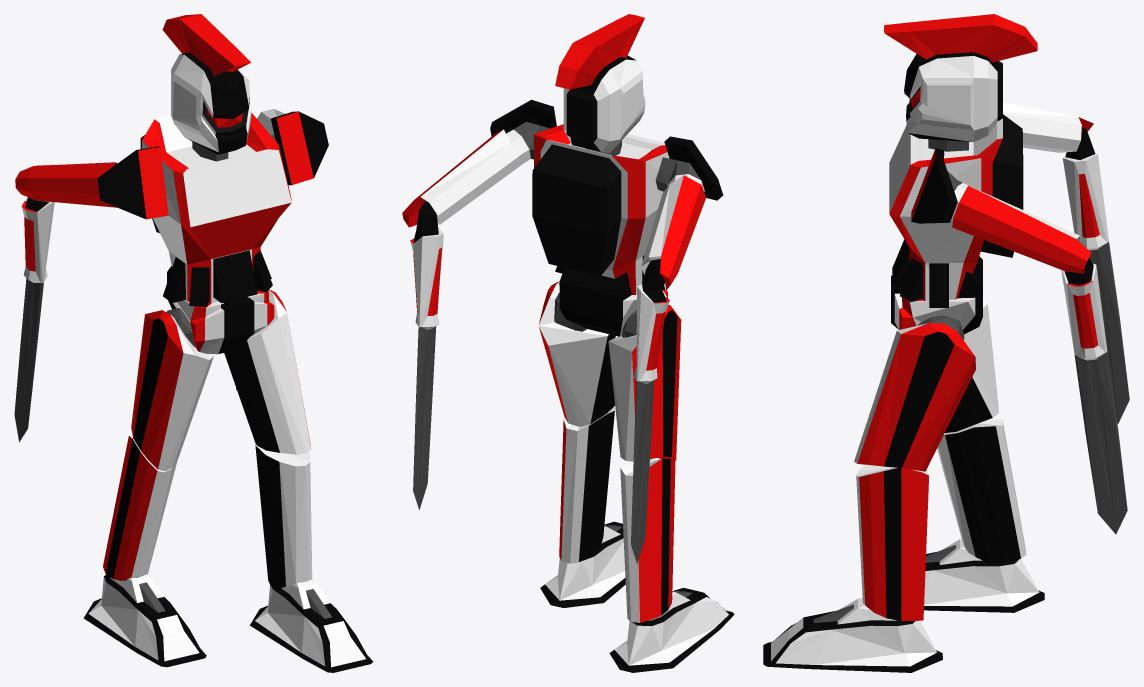
The model's file is robots_000022.obj.
3 views of the same model, side by side, from view 1: azimuth 30°, elevation 25°; view 2: azimuth 150°, elevation 25°; view 3: azimuth 270°, elevation 25° (orthographic). The views are drawn at different scales.
Visible parts, largest first — view 1: Chest_plate_Cube.004, Head_gladiator_Cube.024, R_Thigh_Cube.005, R_Forearm.001_Cube.028, R_Thigh.002_Cube.027, R_Shin.002_Cube.029, R_Foot_Cube, R_Foot.002_Cube.035, R_Shin_Cube.007, Pelvis_Cube.006, R_Arm.002_Cube.032, R_Arm.003_Cube.034; view 2: Chest_plate_Cube.004, R_Forearm.002_Cube.033, R_Forearm.001_Cube.028, Head_gladiator_Cube.024, R_Shin_Cube.007, R_Shin.002_Cube.029, R_Thigh_Cube.005, R_Thigh.002_Cube.027, R_Foot_Cube, R_Foot.002_Cube.035, Pelvis_Cube.006, R_Arm.002_Cube.032 (+1 smaller); view 3: R_Forearm.002_Cube.033, Chest_plate_Cube.004, Head_gladiator_Cube.024, R_Thigh.002_Cube.027, R_Shin.002_Cube.029, R_Forearm.001_Cube.028, R_Shin_Cube.007, R_Foot.002_Cube.035, R_Foot_Cube, R_Thigh_Cube.005, Pelvis_Cube.006, R_Arm.003_Cube.034.
Part boxes in pixels (<box>): Chest_plate_Cube.004: <box>140,113,291,307</box>; Head_gladiator_Cube.024: <box>162,14,251,154</box>; R_Thigh_Cube.005: <box>131,310,214,471</box>; R_Forearm.001_Cube.028: <box>14,162,117,442</box>; R_Thigh.002_Cube.027: <box>224,289,311,454</box>; R_Shin.002_Cube.029: <box>255,443,312,589</box>; R_Foot_Cube: <box>83,574,206,667</box>; R_Foot.002_Cube.035: <box>250,579,373,672</box>; R_Shin_Cube.007: <box>103,435,177,580</box>; Pelvis_Cube.006: <box>167,266,274,354</box>; R_Arm.002_Cube.032: <box>97,146,168,219</box>; R_Arm.003_Cube.034: <box>270,111,328,185</box>; Chest_plate_Cube.004: <box>532,124,669,294</box>; R_Forearm.002_Cube.033: <box>402,129,520,509</box>; R_Forearm.001_Cube.028: <box>631,175,705,563</box>; Head_gladiator_Cube.024: <box>555,14,645,153</box>; R_Shin_Cube.007: <box>620,458,675,622</box>; R_Shin.002_Cube.029: <box>559,407,614,563</box>; R_Thigh_Cube.005: <box>608,304,681,461</box>; R_Thigh.002_Cube.027: <box>538,281,615,426</box>; R_Foot_Cube: <box>609,587,734,672</box>; R_Foot.002_Cube.035: <box>540,521,625,607</box>; Pelvis_Cube.006: <box>558,267,667,336</box>; R_Arm.002_Cube.032: <box>655,136,723,200</box>; R_Forearm.002_Cube.033: <box>952,185,1127,534</box>; Chest_plate_Cube.004: <box>889,114,1023,307</box>; Head_gladiator_Cube.024: <box>884,14,1037,142</box>; R_Thigh.002_Cube.027: <box>854,323,975,471</box>; R_Shin.002_Cube.029: <box>856,464,929,621</box>; R_Forearm.001_Cube.028: <box>1003,102,1129,423</box>; R_Shin_Cube.007: <box>937,414,1026,563</box>; R_Foot.002_Cube.035: <box>763,598,942,672</box>; R_Foot_Cube: <box>924,539,1044,612</box>; R_Thigh_Cube.005: <box>945,294,998,432</box>; Pelvis_Cube.006: <box>891,256,982,334</box>; R_Arm.003_Cube.034: <box>911,148,968,223</box>.
Bounding box in the file's own units: 1.51 × 3.17 × 1.72.
